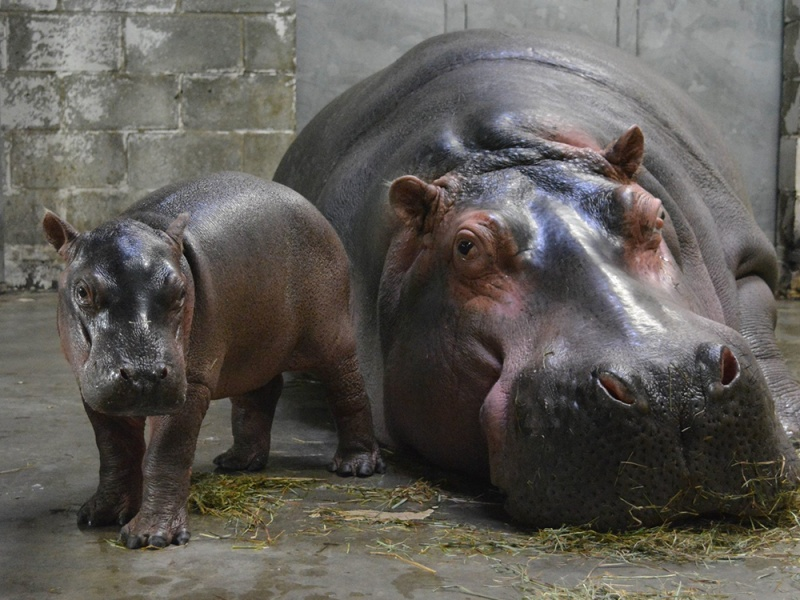hipopotamo: (328, 7, 791, 536), (33, 152, 376, 557)
